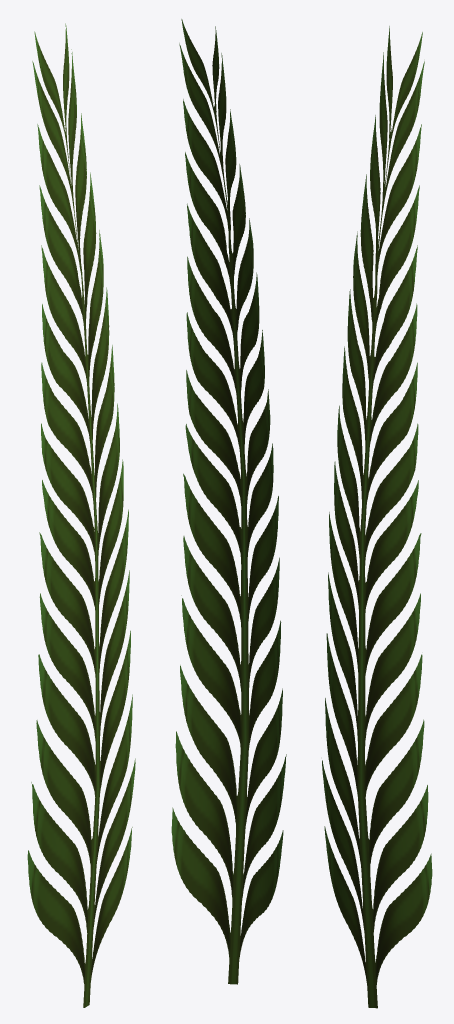
The model's file is SeaWeed_02a.FBX.
3 renders of one model, left to right at view 1: azimuth 30°, elevation 25°; view 2: azimuth 150°, elevation 25°; view 3: azimuth 330°, elevation 25°, orthographic. The views are drawn at different scales.
Visible parts, largest first — view 1: SeaWeed_02a; view 2: SeaWeed_02a; view 3: SeaWeed_02a.
Part boxes in pixels (bbox=[...]): SeaWeed_02a: bbox=[27, 23, 135, 1007]; SeaWeed_02a: bbox=[171, 19, 286, 984]; SeaWeed_02a: bbox=[322, 26, 432, 1008].
Size of the model in its own units: 4.87 by 40.71 by 3.92.
